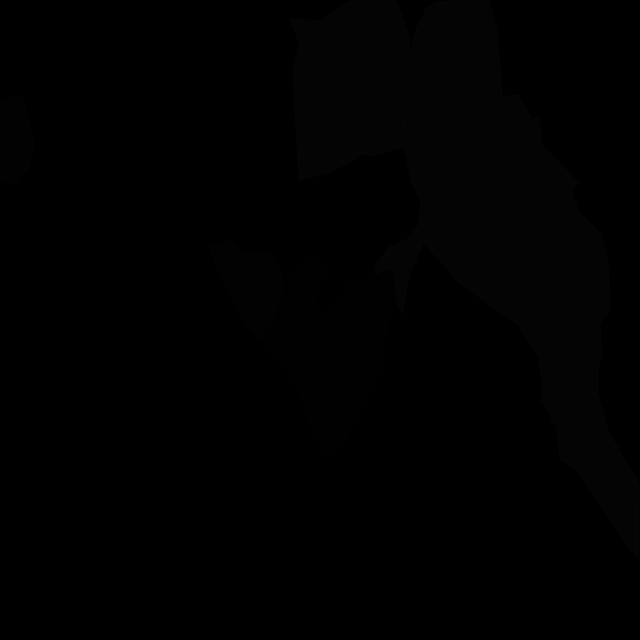cardboard: (204, 239, 285, 339), (0, 95, 35, 186)
rigid_plastic: (300, 268, 396, 459), (260, 256, 331, 394)
soft_plastic: (374, 0, 640, 561), (288, 0, 422, 181)
